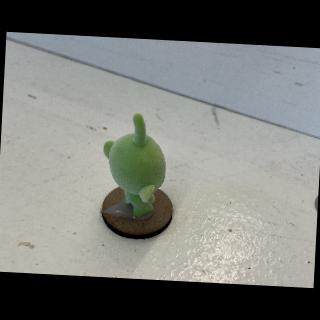teletubby: (103, 113, 166, 216)
